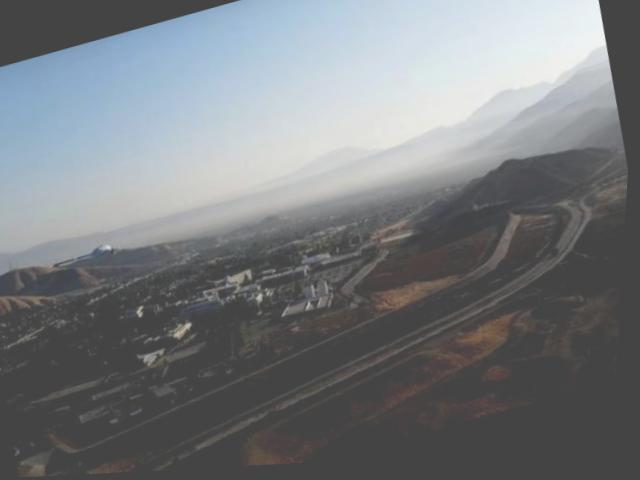iha: (48, 235, 129, 280)
